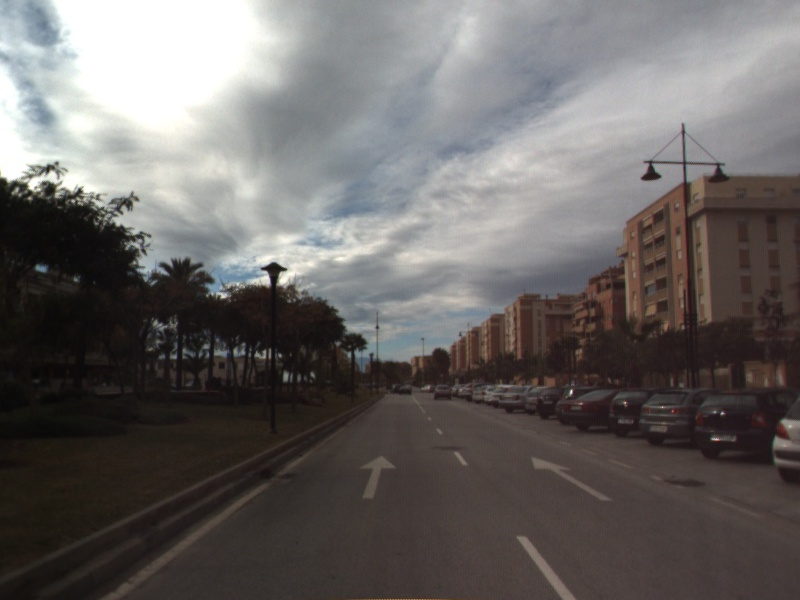STRAIGHT: (530, 455, 614, 502), (357, 453, 399, 501)
